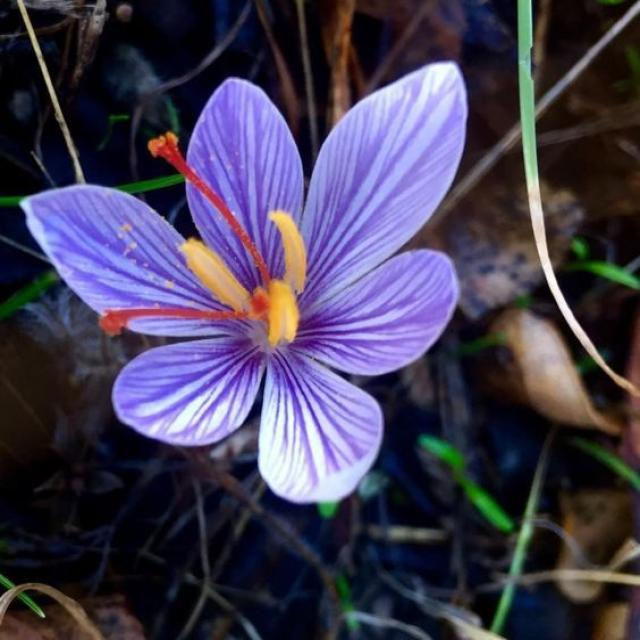Flower: (22, 63, 466, 502)
stigma: (143, 122, 274, 284), (96, 282, 296, 335)
